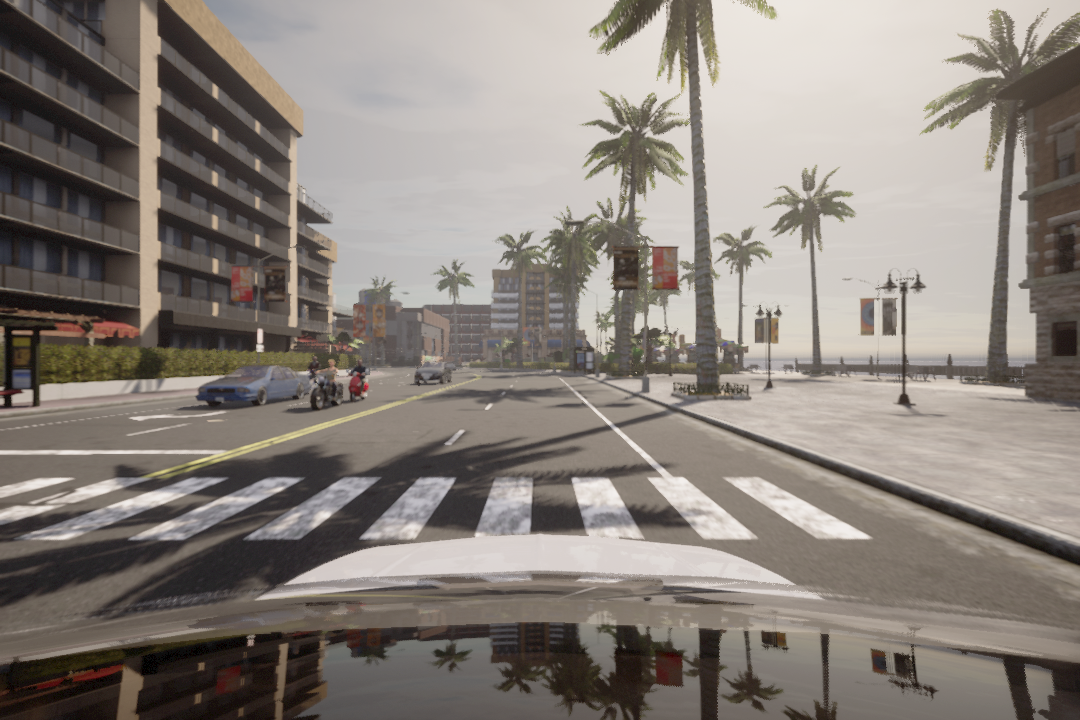RoadSign_right: (121, 407, 224, 423)
walkside: (2, 474, 874, 559)
